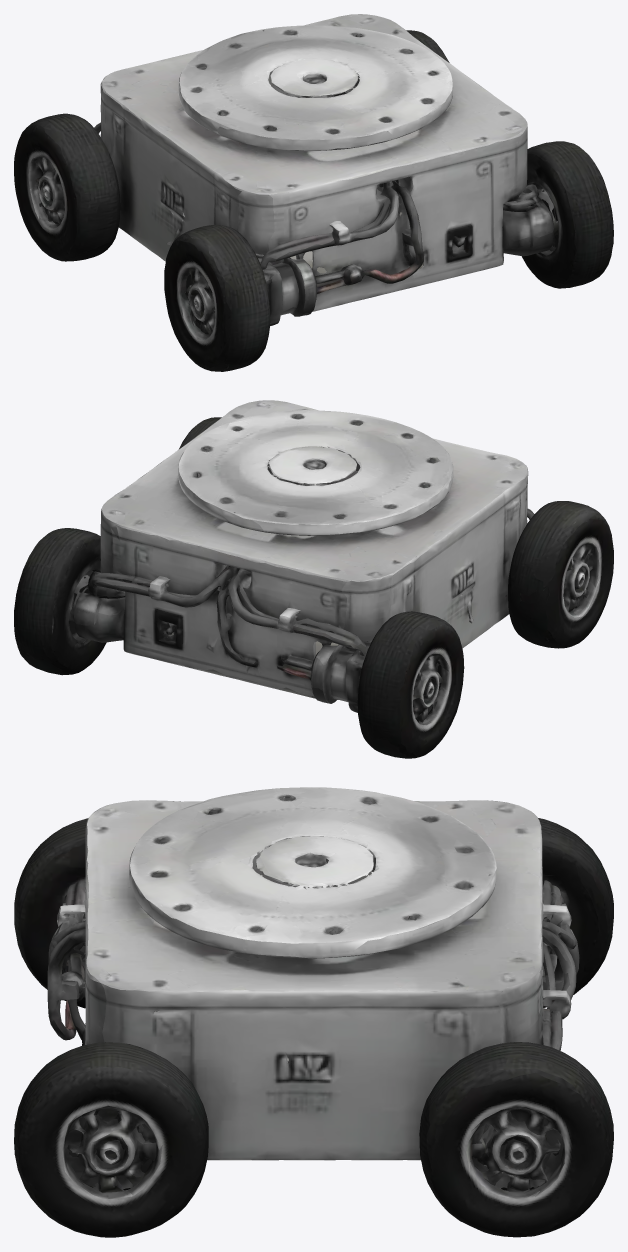
The picture shows the model from 3 angles, top to bottom: view 1: azimuth 30°, elevation 25°; view 2: azimuth 150°, elevation 25°; view 3: azimuth 270°, elevation 25°; orthographic projection. The views are drawn at different scales.
Visible parts, largest first — view 1: geometry_0; view 2: geometry_0; view 3: geometry_0.
Boxes of the visible parts, x1,y1,x2,y2 form: geometry_0: [14, 14, 613, 371]; geometry_0: [14, 400, 613, 758]; geometry_0: [14, 787, 613, 1237].
Size of the model in its own units: 0.38 by 0.1773 by 0.3749.
1 material, 1 textured.
